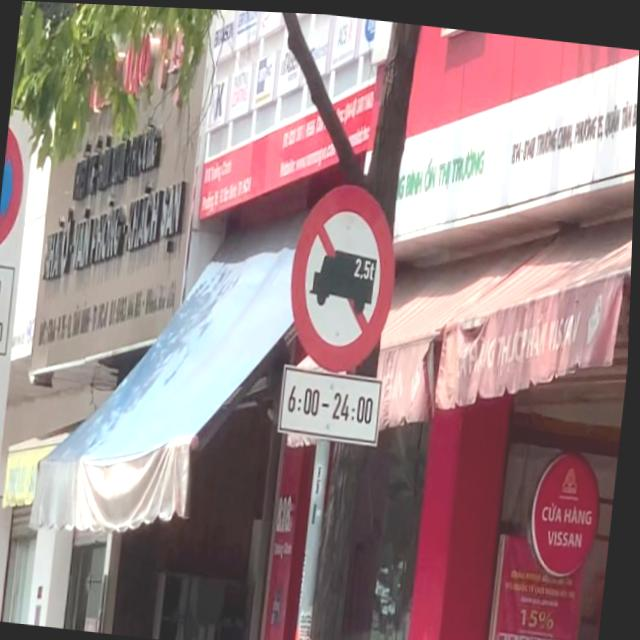Cam xe tai tren 2_5: (284, 169, 411, 369)
